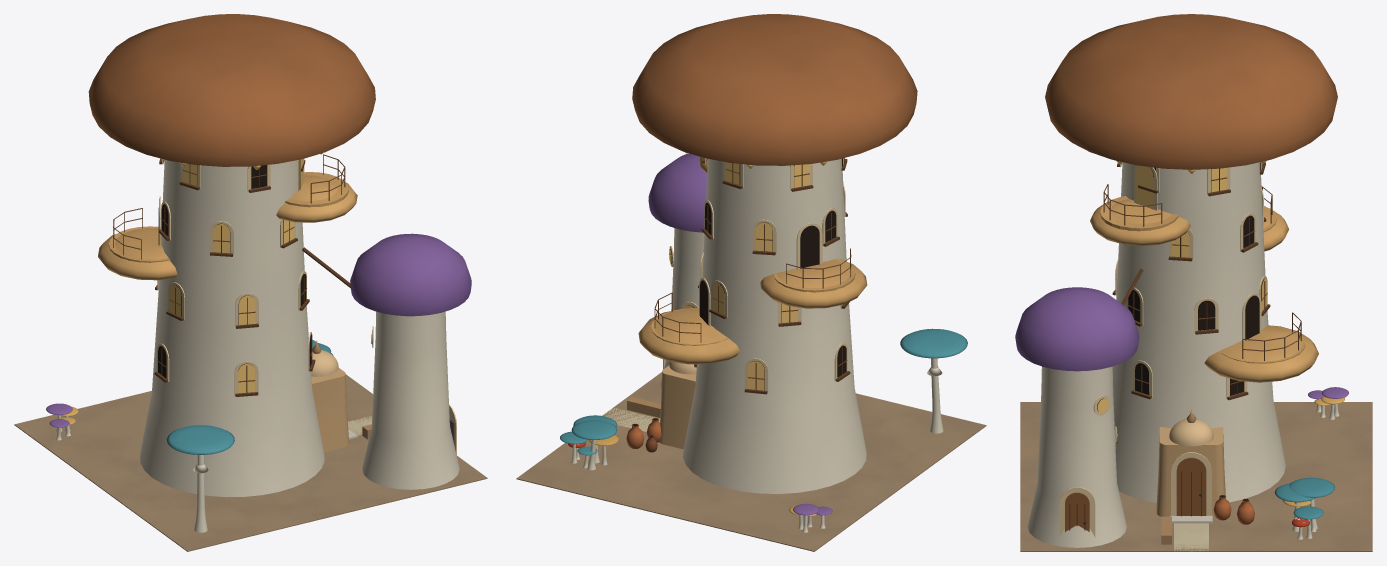
Rendered from hl_houbovy_dum.glb.
3 renders of one model, left to right at view 1: azimuth 30°, elevation 25°; view 2: azimuth 150°, elevation 25°; view 3: azimuth 270°, elevation 25°, orthographic. The views are drawn at different scales.
Visible parts, largest first — view 1: dum, noc; view 2: dum, noc; view 3: dum, noc.
Boxes of the visible parts, x1,y1,x2,y2 form: dum: (14, 14, 487, 551); noc: (161, 153, 371, 393); dum: (516, 14, 986, 551); noc: (669, 152, 844, 390); dum: (1015, 14, 1372, 551); noc: (1097, 160, 1267, 443).
Bounding box in the file's own units: 14.36 × 18.86 × 14.36.
Materials: 1 (1 with a texture image).
